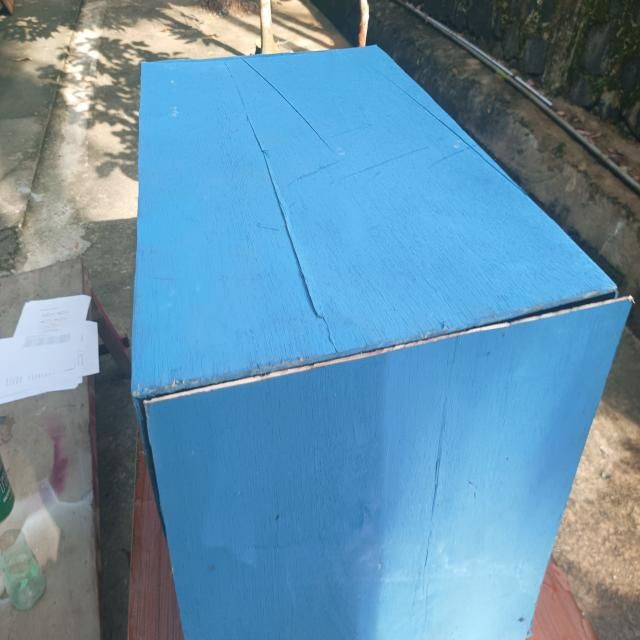blue_box: (110, 21, 624, 640)
